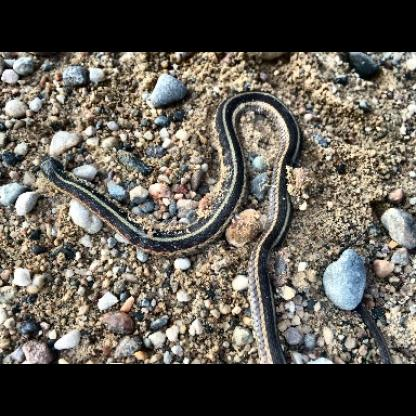Snake: (38, 73, 357, 347)
